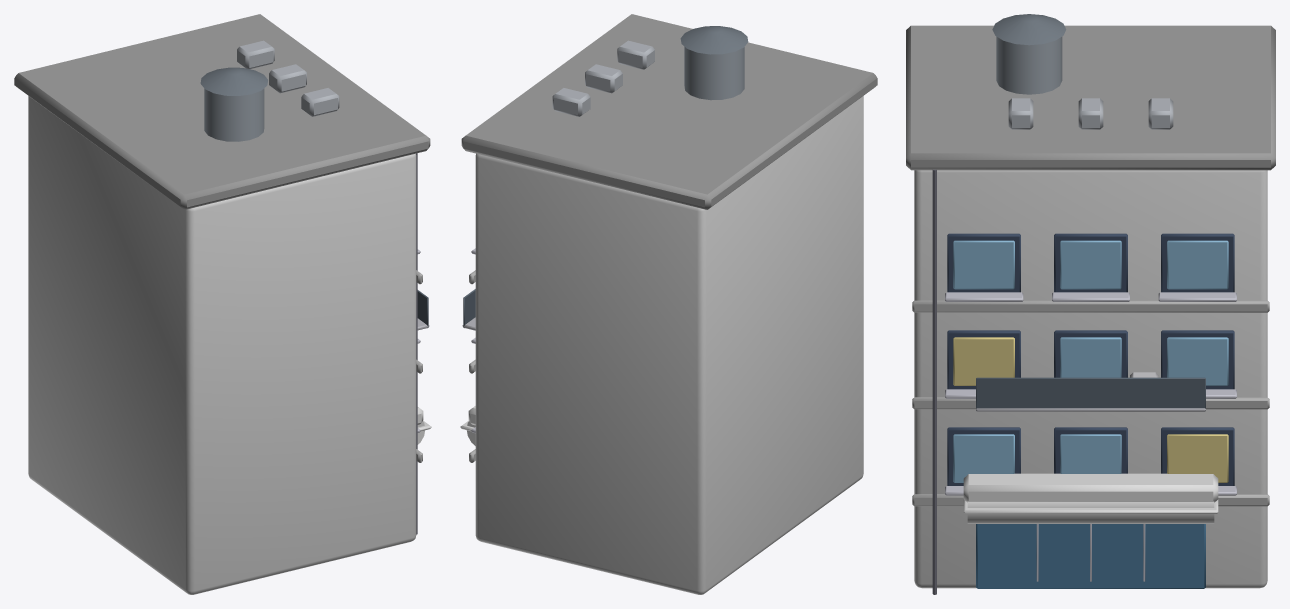
File: bld_2.glb
3 views of the same model, side by side, from view 1: azimuth 30°, elevation 25°; view 2: azimuth 150°, elevation 25°; view 3: azimuth 270°, elevation 25° (orthographic). The views are drawn at different scales.
Visible parts, largest first — view 1: b; view 2: b; view 3: b.
Boxes of the visible parts, x1,y1,x2,y2 form: b: (14, 14, 431, 594); b: (460, 14, 877, 594); b: (906, 14, 1275, 594).
Size of the model in its own units: 8.5 by 13.5 by 9.
